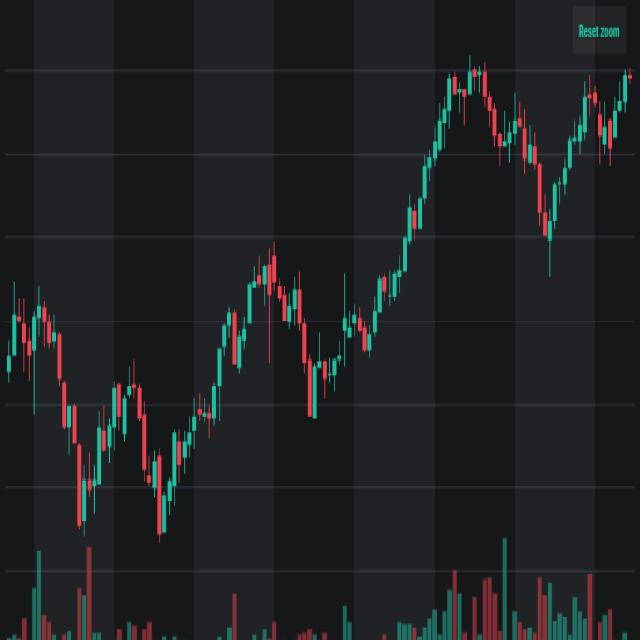Resistance-breakout: (221, 77, 453, 410)
